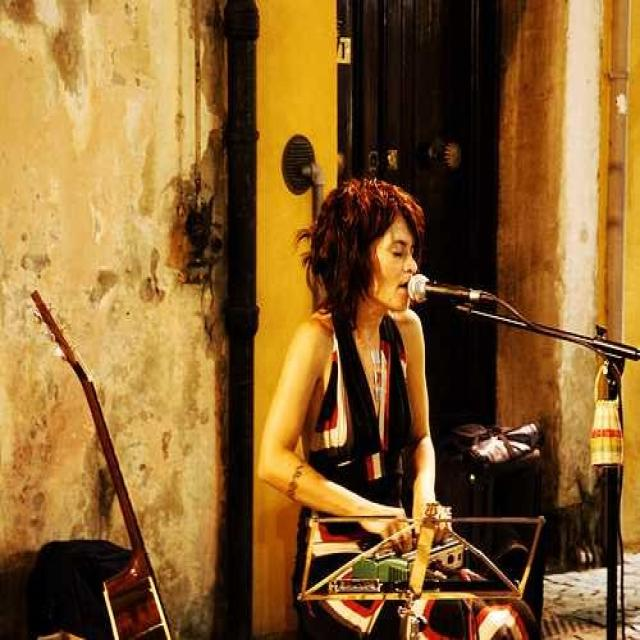microphone: (405, 274, 481, 308)
